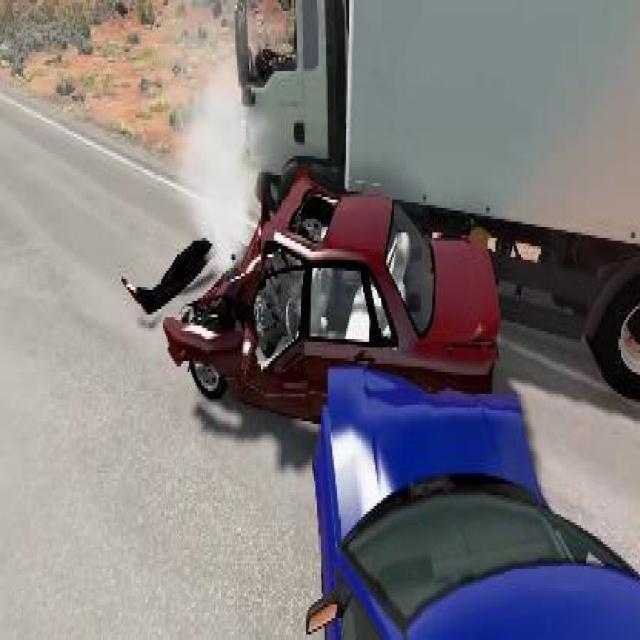accident: (152, 0, 638, 637)
